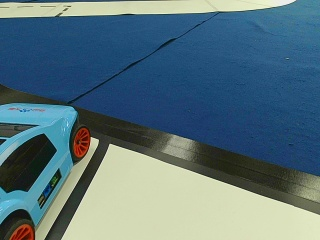car: (0, 106, 88, 237)
